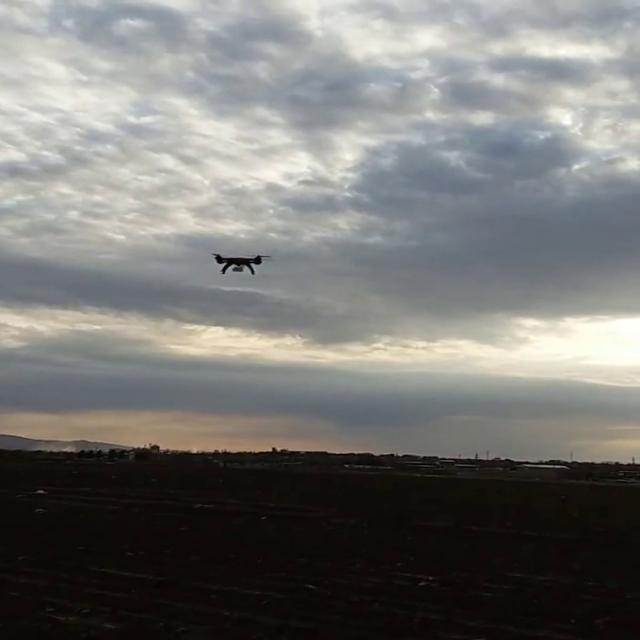drone: (200, 248, 276, 276)
